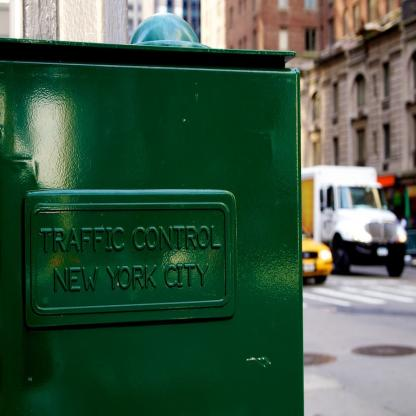Car: (303, 224, 335, 283)
